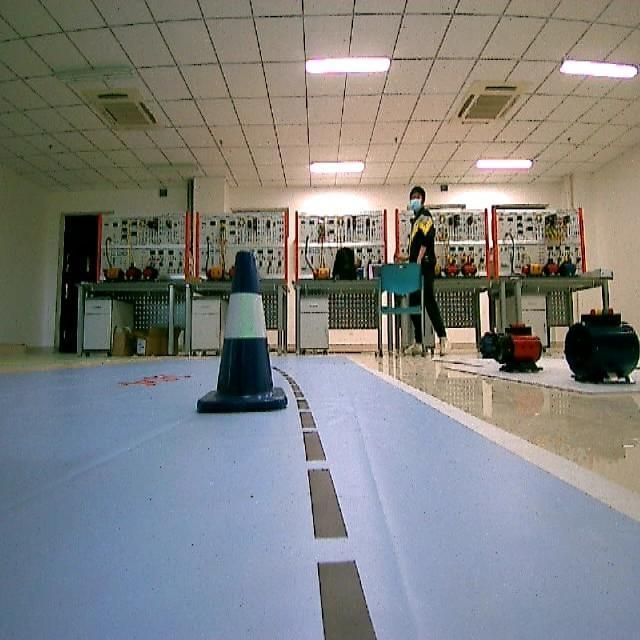obstacle: (196, 246, 290, 422)
